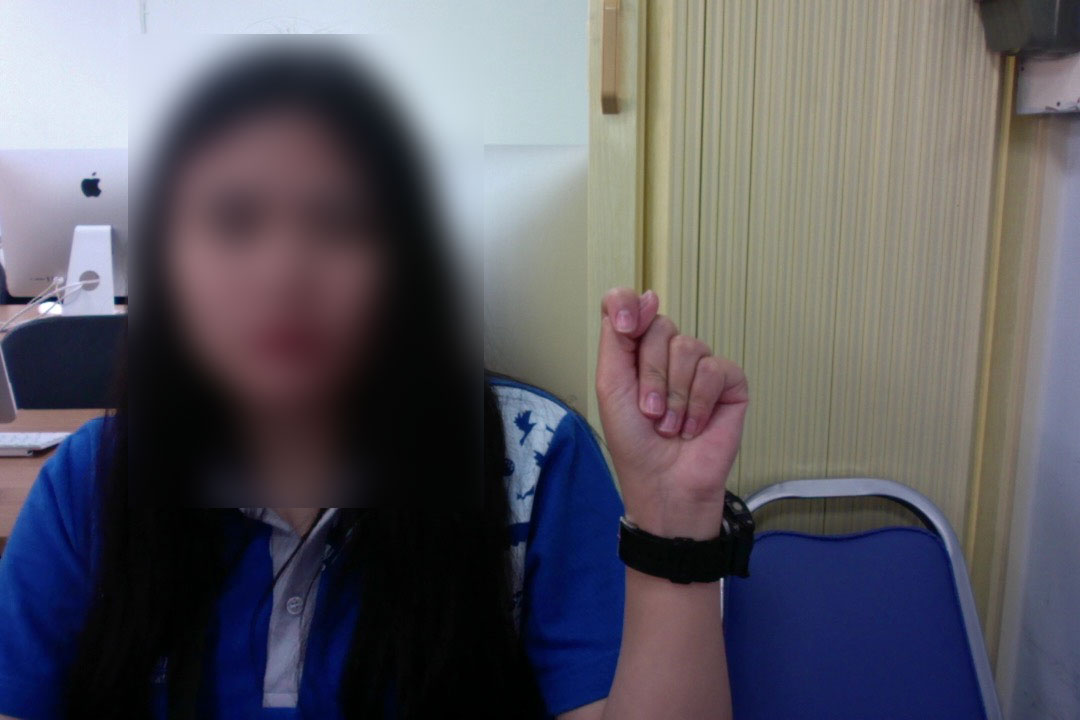tor: (592, 284, 754, 515)
